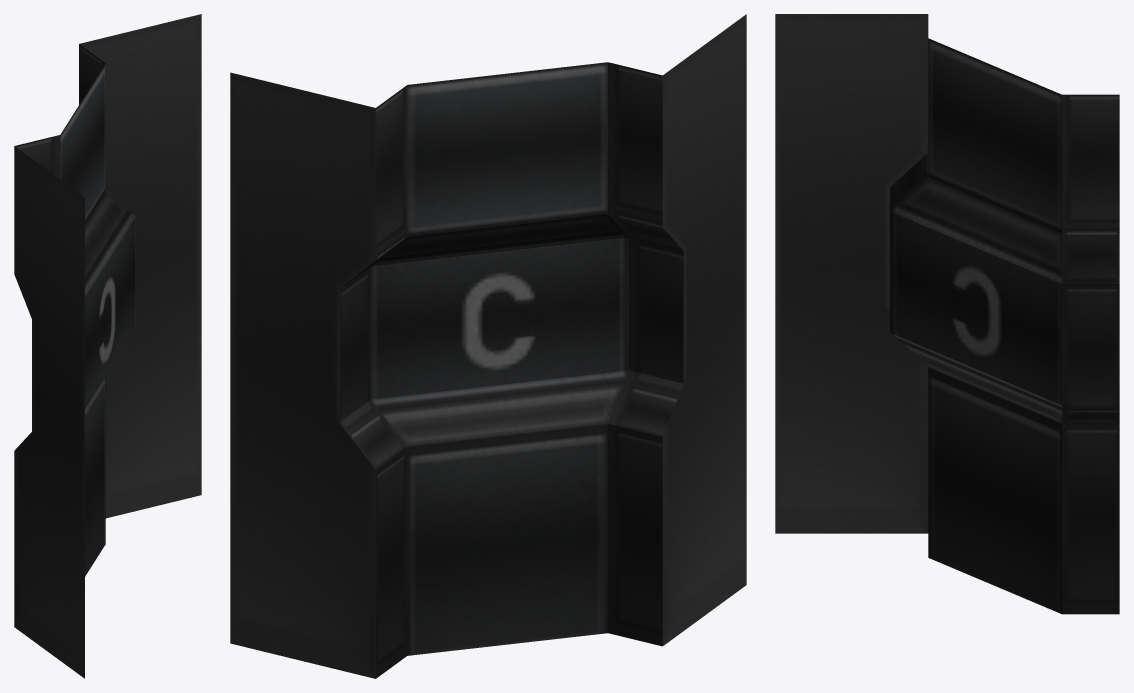
The model's file is corridor_wallCornerInside.obj.
The picture shows the model from 3 angles, left to right: view 1: azimuth 30°, elevation 25°; view 2: azimuth 150°, elevation 25°; view 3: azimuth 270°, elevation 25°; orthographic projection. The views are drawn at different scales.
Visible parts, largest first — view 1: Cube.006_Cube.011; view 2: Cube.006_Cube.011; view 3: Cube.006_Cube.011.
Part boxes in pixels (box(x1,y1,x2,y2)): Cube.006_Cube.011: box(14, 14, 201, 678); Cube.006_Cube.011: box(230, 14, 746, 678); Cube.006_Cube.011: box(775, 14, 1119, 614).
Bounding box in the file's own units: 1.8 × 3 × 1.8.
